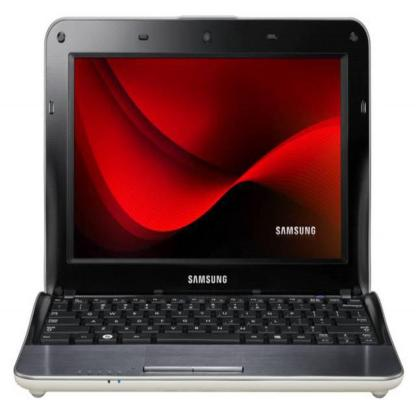board: (14, 14, 404, 398)
